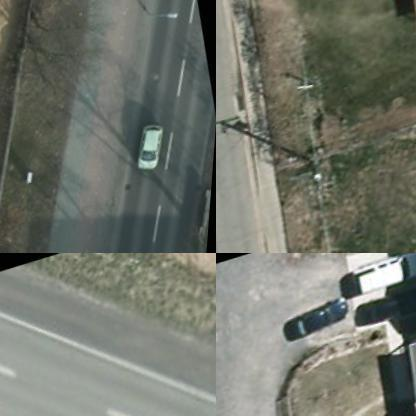car: (352, 285, 415, 337), (349, 253, 415, 302), (288, 297, 352, 346), (134, 131, 174, 178)
